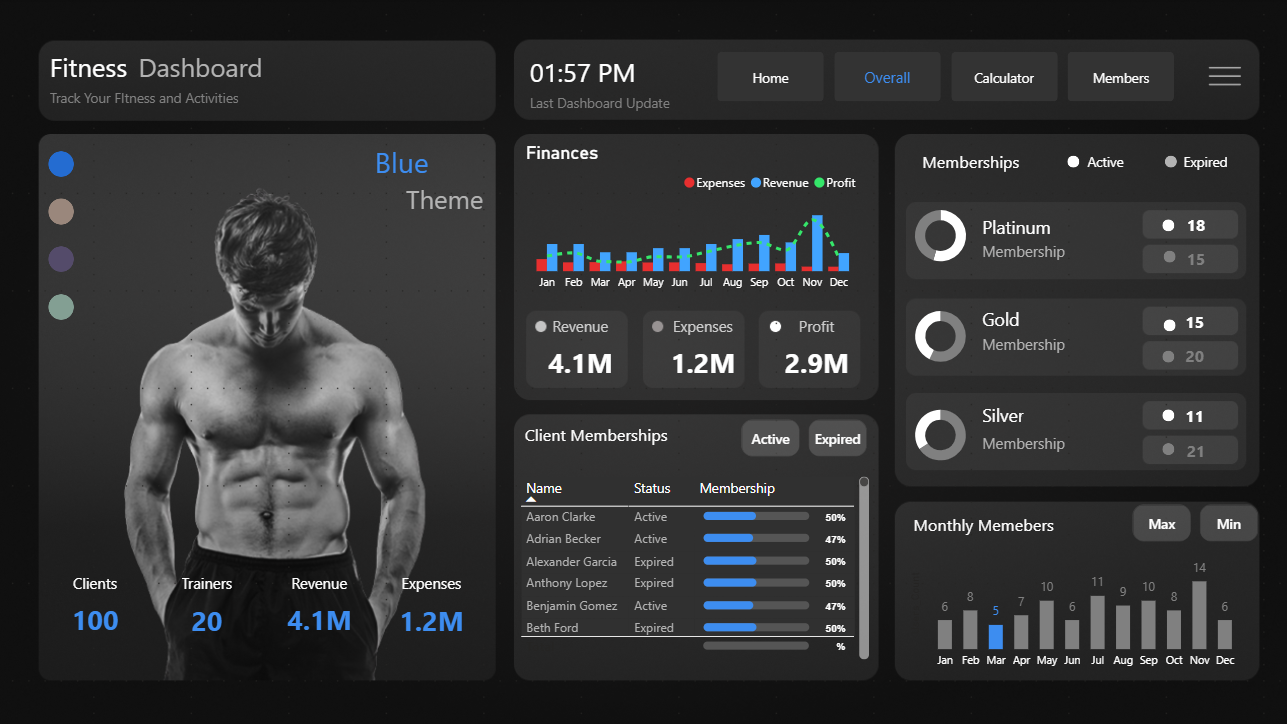

The page's visual inventory and layout, read from the dashboard file:
{"tool":"powerbi","page":{"name":"Overall","canvas":[1280,720],"ordinal":1},"visuals":[{"type":"cardVisual","fields":{"Data":["_Measures.Clients_Count"]},"box":[43.4,557.4,109.8,79.6],"z":0},{"type":"cardVisual","fields":{"Data":["Count(Users.Trainer Name)"]},"box":[153,557.6,110,80],"z":1000},{"type":"cardVisual","fields":{"Data":["_Measures.Revenue"]},"box":[263,557.4,111,79.6],"z":2000},{"type":"cardVisual","fields":{"Data":["_Measures.Expenses"]},"box":[374,557.4,109.8,80.8],"z":3000},{"type":"cardVisual","fields":{"Data":["_Measures.Revenue"]},"box":[533.6,297.1,111,79.6],"z":4000},{"type":"cardVisual","fields":{"Data":["_Measures.Expenses"]},"box":[644.6,297.1,109.8,80.8],"z":5000},{"type":"cardVisual","fields":{"Data":["_Measures.Profit"]},"box":[754,298,109.8,80.8],"z":6000},{"type":"lineClusteredColumnComboChart","title":"Finances","fields":{"Category":["Calender.Month"],"Y":["_Measures.Expenses","_Measures.Revenue"],"Y2":["_Measures.Profit"]},"box":[516.4,141.2,339,155.6],"z":7000},{"type":"clusteredColumnChart","fields":{"Y":["_Measures.Clients_Count"],"Category":["Calender.Month"]},"box":[895.2,536.9,337.8,132.7],"z":8000},{"type":"shape","box":[903.6,498.3,142.4,38.6],"z":9000},{"type":"advancedSlicerVisual","title":"jklkul","fields":{"Values":["_Max_Min_Switch.Type"]},"box":[1113.5,493.4,135.1,47.1],"z":10000},{"type":"tableEx","fields":{"Values":["Users.UserName","Users.Status","_Measures.SVG_BarChart1"]},"box":[510.3,466.9,353.5,189.4],"z":11000},{"type":"advancedSlicerVisual","title":"jklkul","fields":{"Values":["Users.Status"]},"box":[728.7,410.2,135.1,47.1],"z":12000},{"type":"shape","box":[521.2,410.2,142.4,38.6],"z":13000},{"type":"shape","box":[971.2,205.1,142.4,38.6],"z":14000},{"type":"shape","box":[971.2,296.8,142.4,38.6],"z":15000},{"type":"shape","box":[971.2,390.9,142.4,38.6],"z":16000},{"type":"shape","box":[971.2,229.2,142.4,38.6],"z":17000},{"type":"shape","box":[971.2,320.9,142.4,38.6],"z":18000},{"type":"shape","box":[971.2,418.6,142.4,38.6],"z":19000},{"type":"donutChart","fields":{"Y":["_Measures.Gold_User"],"Category":["Users.Status"]},"box":[884.3,290.8,90.5,85.7],"z":20000},{"type":"donutChart","fields":{"Y":["_Measures.Platinum_User"],"Category":["Users.Status"]},"box":[884.3,190.6,90.5,86.9],"z":21000},{"type":"donutChart","fields":{"Y":["_Measures.Silver_User"],"Category":["Users.Status"]},"box":[884.3,387.3,90.5,85.7],"z":22000},{"type":"card","fields":{"Values":["_Measures.Active_Platinum_User"]},"box":[1161.8,206.3,39.8,37.4],"z":23000},{"type":"card","fields":{"Values":["_Measures.Expired_Platinum_User"]},"box":[1161.8,240.1,39.8,37.4],"z":24000},{"type":"card","fields":{"Values":["_Measures.Active_Gold_User"]},"box":[1161.2,303.2,39.8,37.4],"z":25000},{"type":"card","fields":{"Values":["_Measures.Expired_Gold_User"]},"box":[1160.8,336.6,39.8,37.4],"z":26000},{"type":"card","fields":{"Values":["_Measures.Active_Silver_User"]},"box":[1161.2,394.9,39.8,37.4],"z":27000},{"type":"card","fields":{"Values":["_Measures.Expired_Silver_User"]},"box":[1161.6,429,39.8,37.4],"z":28000},{"type":"shape","box":[1148.5,218.4,12.1,12.1],"z":29000},{"type":"shape","box":[1149.7,248.5,12.1,12.1],"z":30000},{"type":"shape","box":[1149.7,316.1,12.1,12.1],"z":31000},{"type":"shape","box":[1148.5,347.5,12.1,12.1],"z":32000},{"type":"shape","box":[1148.9,405,12.1,12.1],"z":33000},{"type":"shape","box":[1148.5,437.9,12.1,12.1],"z":34000},{"type":"shape","box":[900,133.9,113.4,38.6],"z":35000},{"type":"shape","box":[1054.4,154.9,12.1,12.1],"z":36000},{"type":"shape","box":[1150.9,154.9,12.1,12.1],"z":37000},{"type":"shape","box":[1074.9,141.6,55.5,38.6],"z":38000},{"type":"shape","box":[1169,141.6,55.5,38.6],"z":39000},{"type":"shape","box":[53.1,48.3,113.4,38.6],"z":40000},{"type":"shape","box":[53.1,78.4,236.5,38.6],"z":41000},{"type":"shape","box":[139.9,48.3,135.1,38.6],"z":42000},{"type":"image","box":[1169,53.1,83.2,49.5],"z":43000},{"type":"shape","box":[526,53.1,113.4,38.6],"z":44000},{"type":"shape","box":[526,83.2,236.5,38.6],"z":45000},{"type":"pageNavigator","box":[710.6,53.1,452.4,49.5],"z":46000},{"type":"advancedSlicerVisual","fields":{"Values":["ColorCodes.Icon"]},"box":[43.8,138.9,40,190.2],"z":47000},{"type":"shape","box":[372.9,141.4,113.9,37.5],"z":47001},{"type":"shape","box":[404.2,179,82.6,37.5],"z":47002}]}

Visuals, with their boxes in screenshot pixels (x1, y1, x2, y2), scaled from the page's 1280x720 canvas onto the 1287x724 screenshot:
cardVisual - _Measures.Clients_Count: 44:560:154:641
cardVisual - Count(Users.Trainer Name): 154:561:264:641
cardVisual - _Measures.Revenue: 264:560:376:641
cardVisual - _Measures.Expenses: 376:560:486:642
cardVisual - _Measures.Revenue: 537:299:648:379
cardVisual - _Measures.Expenses: 648:299:759:380
cardVisual - _Measures.Profit: 758:300:869:381
"Finances" lineClusteredColumnComboChart: 519:142:860:298
clusteredColumnChart - _Measures.Clients_Count x Calender.Month: 900:540:1240:673
shape: 909:501:1052:540
"jklkul" advancedSlicerVisual: 1120:496:1255:544
tableEx - Users.UserName x Users.Status: 513:469:869:660
"jklkul" advancedSlicerVisual: 733:412:869:460
shape: 524:412:667:451
shape: 977:206:1120:245
shape: 977:298:1120:337
shape: 977:393:1120:432
shape: 977:230:1120:269
shape: 977:323:1120:361
shape: 977:421:1120:460
donutChart - _Measures.Gold_User x Users.Status: 889:292:980:379
donutChart - _Measures.Platinum_User x Users.Status: 889:192:980:279
donutChart - _Measures.Silver_User x Users.Status: 889:389:980:476
card - _Measures.Active_Platinum_User: 1168:207:1208:245
card - _Measures.Expired_Platinum_User: 1168:241:1208:279
card - _Measures.Active_Gold_User: 1168:305:1208:342
card - _Measures.Expired_Gold_User: 1167:338:1207:376
card - _Measures.Active_Silver_User: 1168:397:1208:435
card - _Measures.Expired_Silver_User: 1168:431:1208:469
shape: 1155:220:1167:232
shape: 1156:250:1168:262
shape: 1156:318:1168:330
shape: 1155:349:1167:362
shape: 1155:407:1167:419
shape: 1155:440:1167:452
shape: 905:135:1019:173
shape: 1060:156:1072:168
shape: 1157:156:1169:168
shape: 1081:142:1137:181
shape: 1175:142:1231:181
shape: 53:49:167:87
shape: 53:79:291:118
shape: 141:49:277:87
image: 1175:53:1259:103
shape: 529:53:643:92
shape: 529:84:767:122
pageNavigator: 714:53:1169:103
advancedSlicerVisual - ColorCodes.Icon: 44:140:84:331
shape: 375:142:489:180
shape: 406:180:489:218
